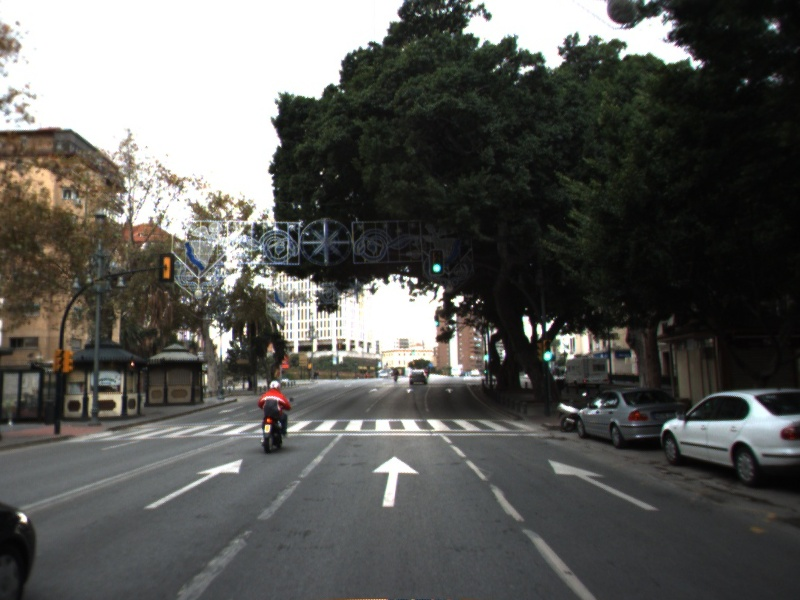STRAIGHT: (546, 457, 662, 513), (142, 457, 245, 511), (369, 454, 423, 509)
